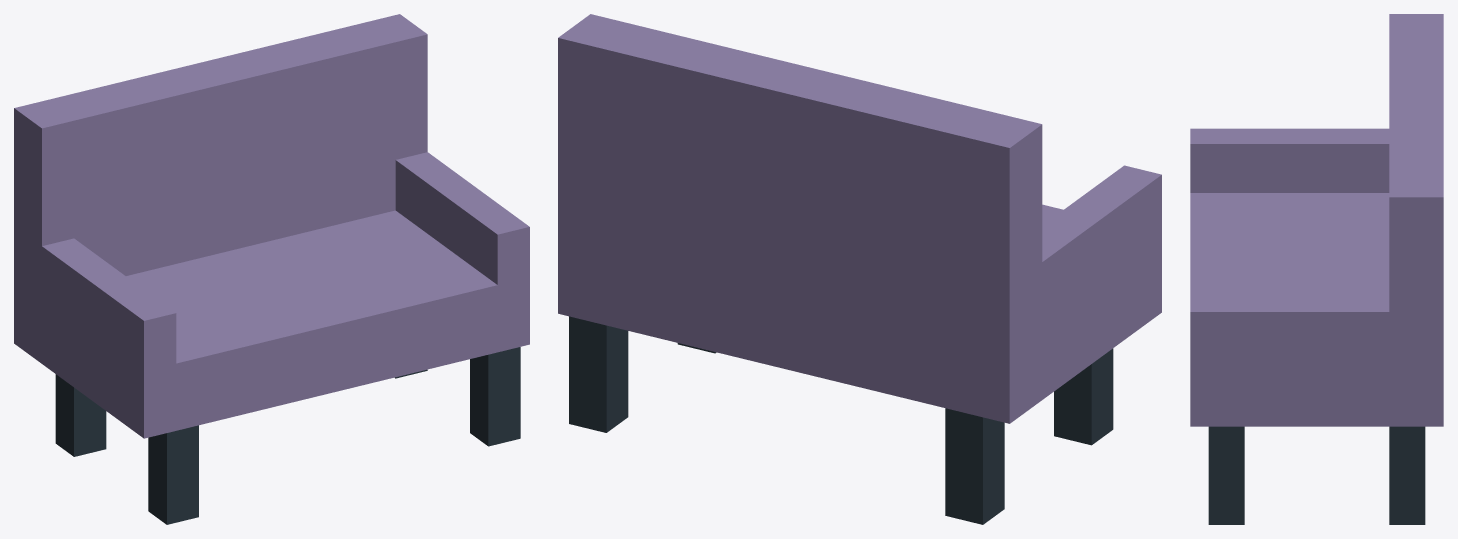
Rendered from social-08.glb.
3 renders of one model, left to right at view 1: azimuth 30°, elevation 25°; view 2: azimuth 150°, elevation 25°; view 3: azimuth 270°, elevation 25°, orthographic. The views are drawn at different scales.
Visible parts, largest first — view 1: Community sofa; view 2: Community sofa; view 3: Community sofa.
Part boxes in pixels (left/top/right/bottom): Community sofa: left=14, top=14, right=529, bottom=524; Community sofa: left=558, top=14, right=1161, bottom=524; Community sofa: left=1190, top=14, right=1443, bottom=524.
Bounding box in the file's own units: 1.92 × 1.6 × 1.12.
